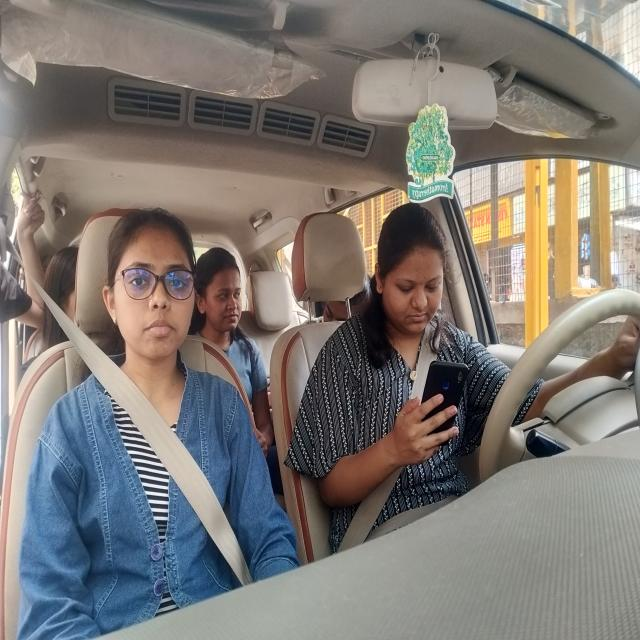mobile: (421, 357, 475, 454)
person: (99, 200, 204, 362), (373, 194, 459, 348), (193, 229, 251, 351)
